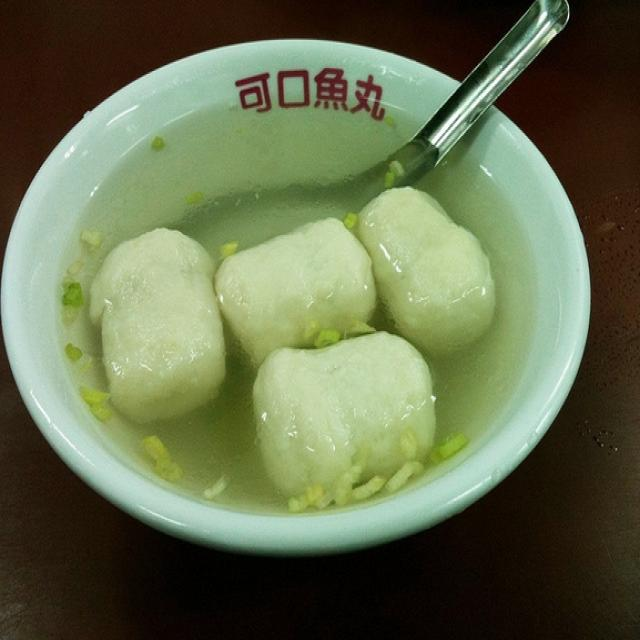熟制海鲜: (65, 61, 546, 532)
